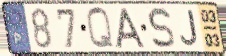7: (54, 7, 78, 50)
8: (30, 7, 54, 50)
A: (114, 7, 147, 50)
J: (179, 9, 200, 48)
Q: (85, 6, 116, 51)
S: (146, 6, 177, 50)
